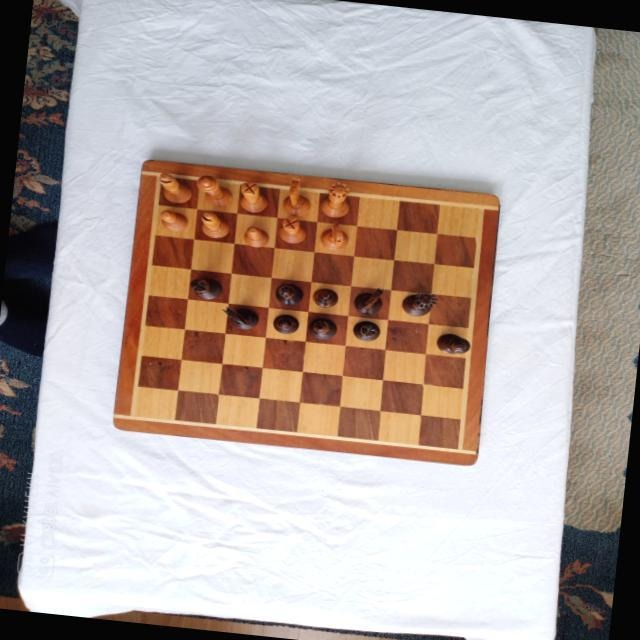black-bishop: (272, 281, 303, 307), (305, 315, 337, 340)
black-king: (433, 331, 471, 356)
black-knight: (220, 304, 260, 332), (351, 284, 384, 315)
black-pawn: (309, 286, 339, 309), (269, 313, 298, 335)
black-queen: (398, 289, 437, 319)
black-rook: (186, 275, 222, 301), (351, 320, 381, 344)
white-bishop: (155, 171, 193, 204), (197, 210, 230, 239)
white-king: (193, 172, 234, 208)
white-knight: (281, 177, 315, 219), (317, 220, 351, 251)
white-pawn: (156, 208, 188, 232), (242, 223, 270, 248)
white-queen: (317, 180, 351, 220)
white-rook: (235, 180, 268, 214), (275, 214, 308, 245)
